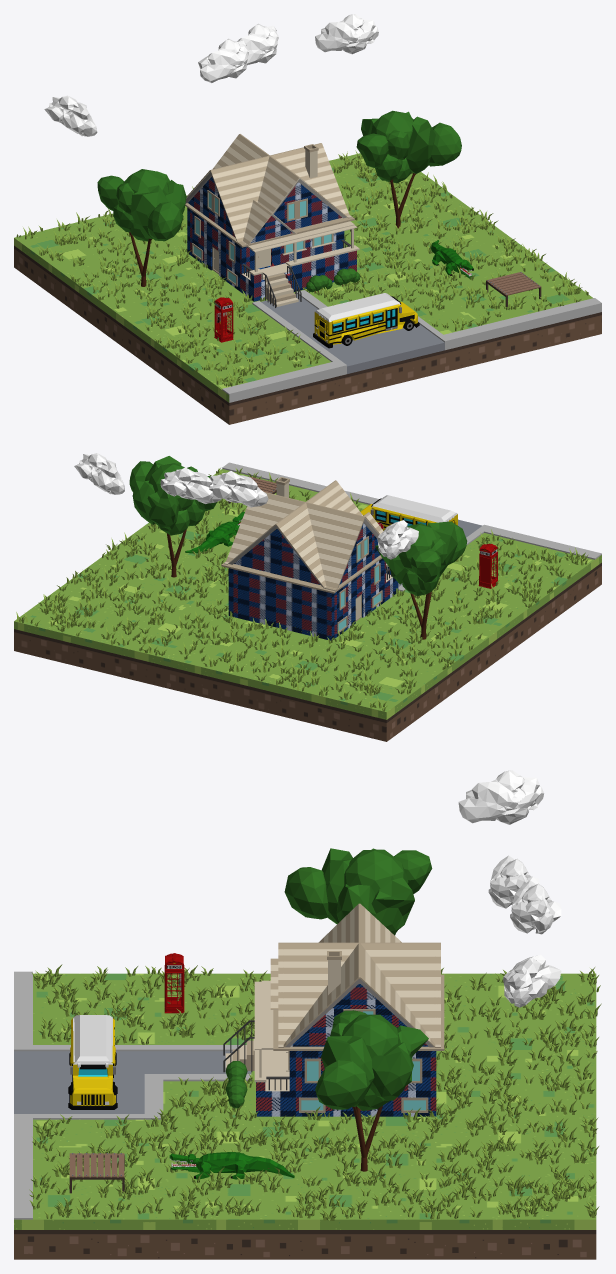
3 views of the same model, one above another, from view 1: azimuth 30°, elevation 25°; view 2: azimuth 150°, elevation 25°; view 3: azimuth 270°, elevation 25° (orthographic). The views are drawn at different scales.
Visible parts, largest first — view 1: Cube.006, Cube.171, Circle.012_Grass_0.192, Cube.007, tree, tree.001, VEHICLES_SCHOOL_BUS, Cube.009, OBJRANDOM_PHONEBOOTH, ANIMAL_COCODRILO; view 2: Cube.006, Cube.171, Circle.012_Grass_0.192, Cube.007, tree.001, tree, VEHICLES_SCHOOL_BUS, ANIMAL_COCODRILO, OBJRANDOM_PHONEBOOTH; view 3: Cube.006, Circle.012_Grass_0.192, Cube.171, tree, Cube.007, tree.001, VEHICLES_SCHOOL_BUS, ANIMAL_COCODRILO, Cube.009, OBJRANDOM_PHONEBOOTH.
Part boxes in pixels (bbox=[...]): Cube.006: bbox=[14, 153, 601, 424]; Cube.171: bbox=[185, 134, 359, 307]; Circle.012_Grass_0.192: bbox=[16, 150, 588, 386]; Cube.007: bbox=[44, 14, 378, 136]; tree: bbox=[356, 110, 461, 228]; tree.001: bbox=[97, 169, 186, 286]; VEHICLES_SCHOOL_BUS: bbox=[313, 293, 419, 348]; Cube.009: bbox=[486, 272, 541, 306]; OBJRANDOM_PHONEBOOTH: bbox=[214, 297, 233, 342]; ANIMAL_COCODRILO: bbox=[431, 240, 473, 278]; Cube.006: bbox=[14, 462, 601, 741]; Cube.171: bbox=[221, 477, 398, 640]; Circle.012_Grass_0.192: bbox=[16, 468, 588, 711]; Cube.007: bbox=[74, 453, 418, 559]; tree.001: bbox=[375, 521, 467, 639]; tree: bbox=[129, 456, 216, 577]; VEHICLES_SCHOOL_BUS: bbox=[360, 495, 457, 530]; ANIMAL_COCODRILO: bbox=[185, 511, 244, 553]; OBJRANDOM_PHONEBOOTH: bbox=[478, 543, 498, 588]; Cube.006: bbox=[14, 971, 596, 1259]; Circle.012_Grass_0.192: bbox=[29, 964, 601, 1220]; Cube.171: bbox=[223, 903, 444, 1116]; tree: bbox=[315, 1010, 428, 1171]; Cube.007: bbox=[458, 770, 561, 1007]; tree.001: bbox=[284, 848, 432, 935]; VEHICLES_SCHOOL_BUS: bbox=[68, 1015, 117, 1109]; ANIMAL_COCODRILO: bbox=[169, 1152, 294, 1179]; Cube.009: bbox=[69, 1153, 124, 1193]; OBJRANDOM_PHONEBOOTH: bbox=[164, 953, 184, 1013].
Size of the model in its own units: 4071 by 2277 by 4040.
42 materials, 4 textured.
